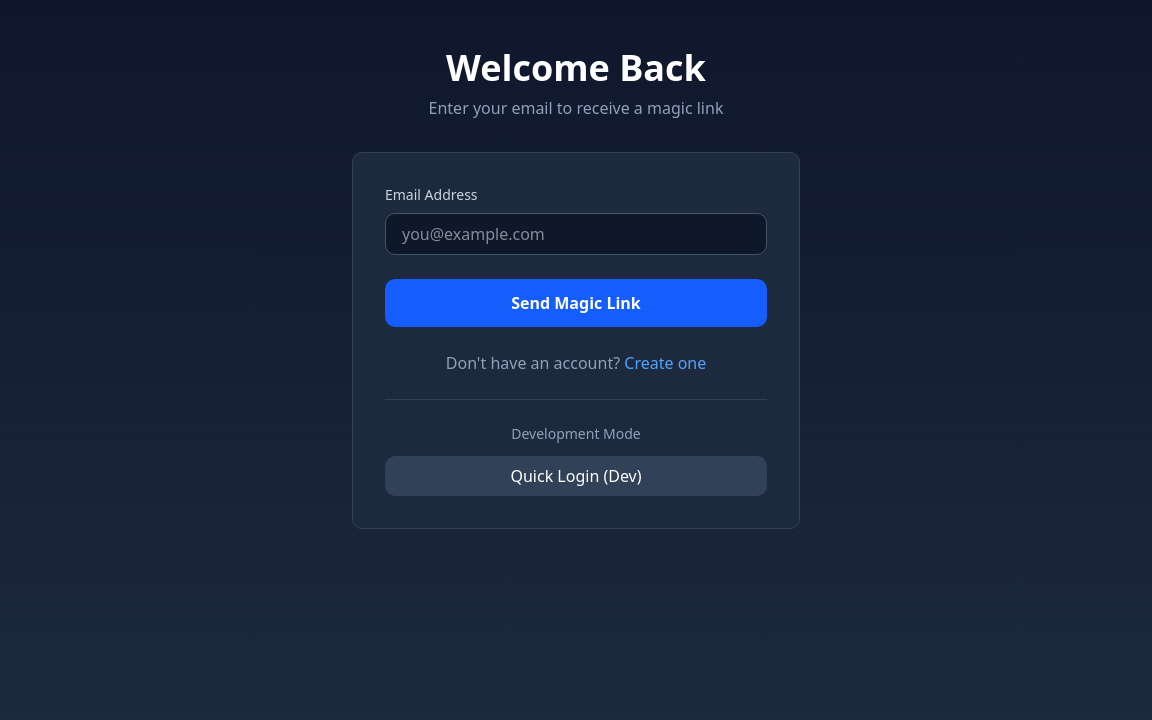
Test: Login Component › Magic Link Request Form › displays success message when magic link is sent successfully
In the field with placeholder "you@example.com": (576, 234) [385,213,767,255], type "test@example.com"
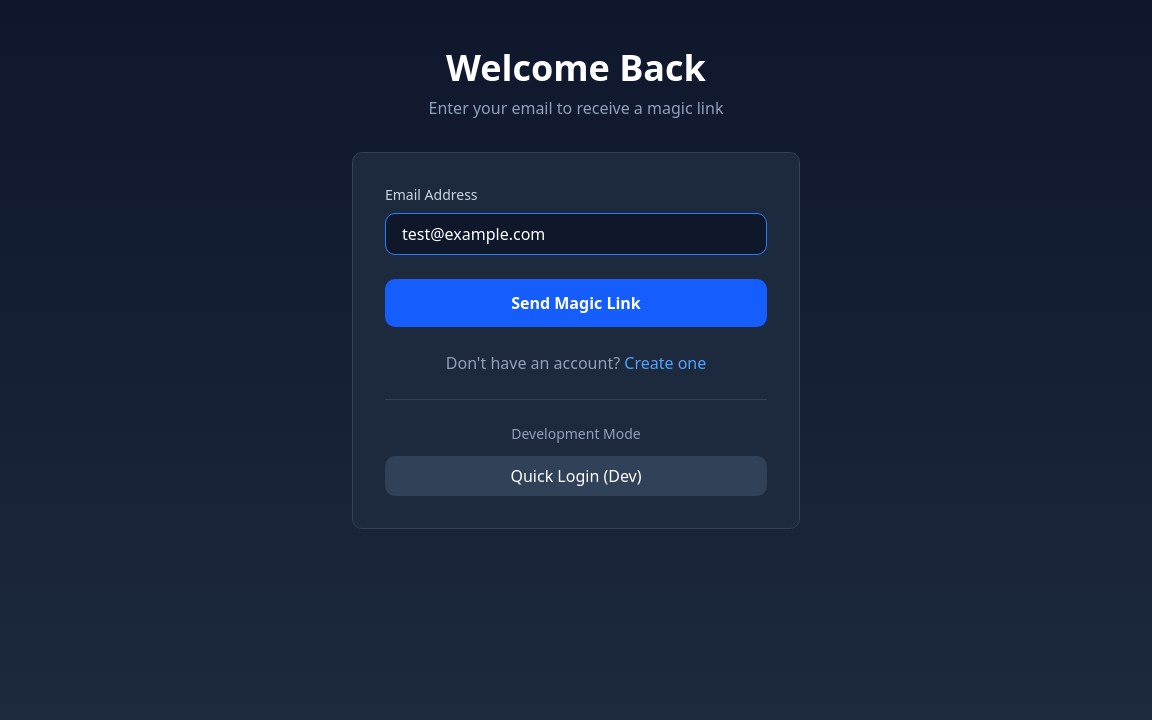
Click the button "Send Magic Link": (576, 303) [385,279,767,327]
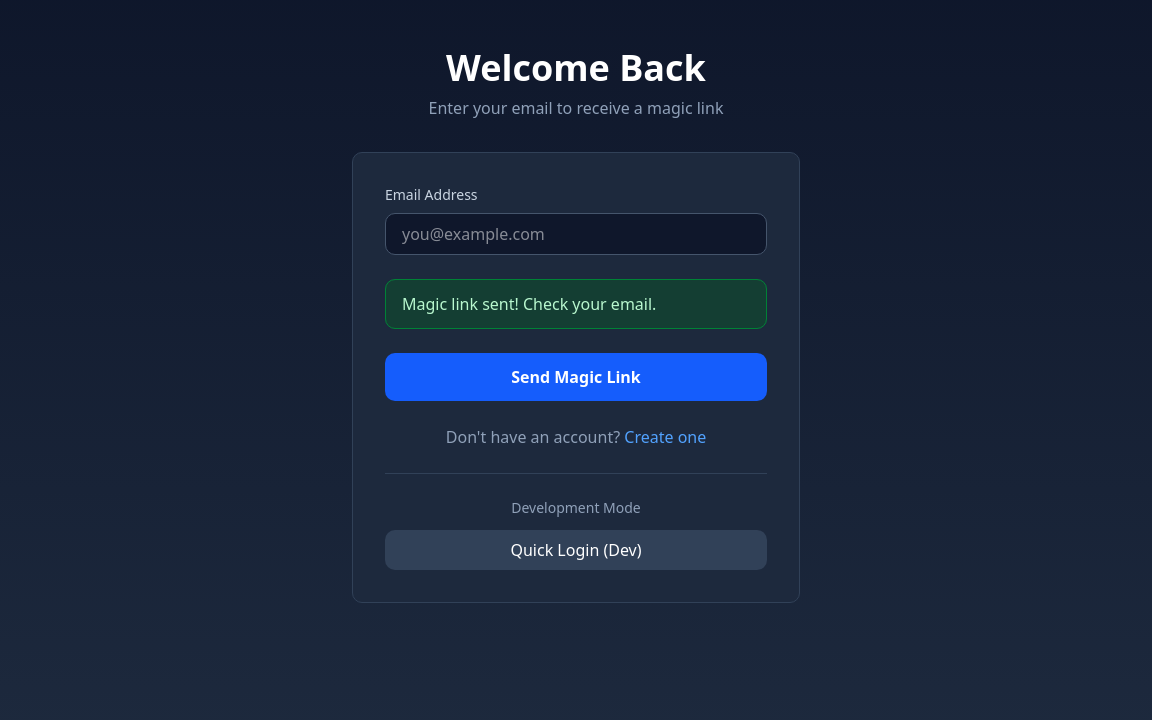
Result: the text "Magic link sent! Check your email." is shown at [385,279,767,329]
Result: the field with placeholder "you@example.com" is empty at [385,213,767,255]
